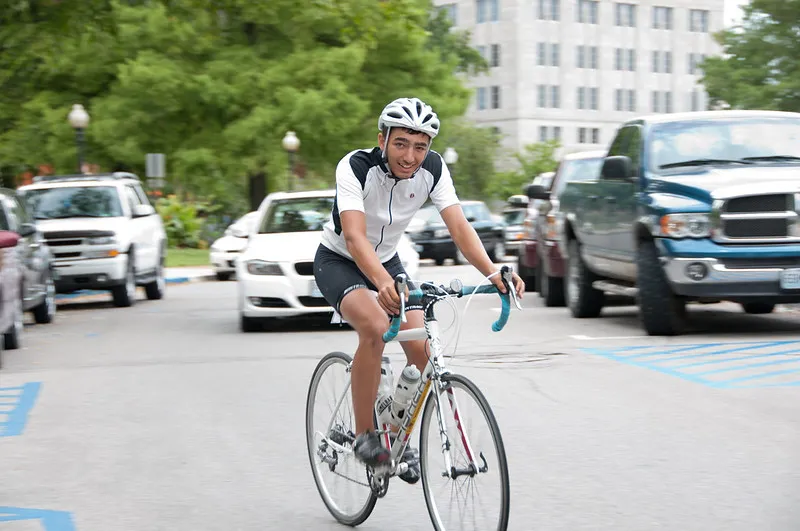helmet: (377, 97, 440, 179)
